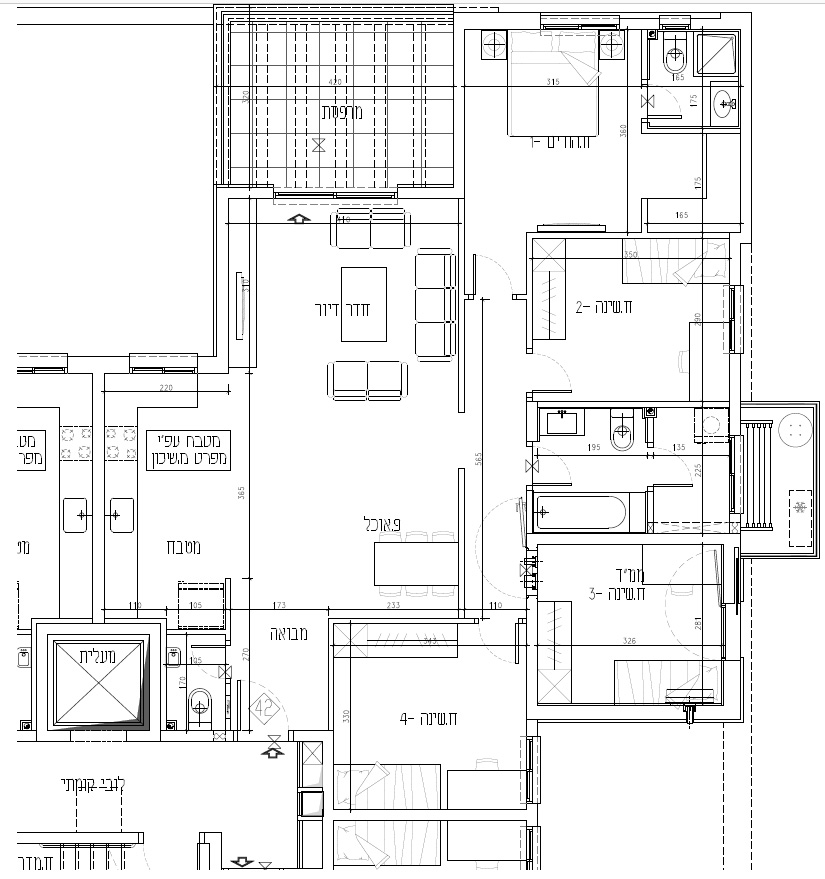window: (270, 190, 398, 201), (538, 20, 621, 32), (522, 736, 535, 804), (726, 435, 737, 513), (726, 285, 738, 354), (128, 365, 198, 375)
